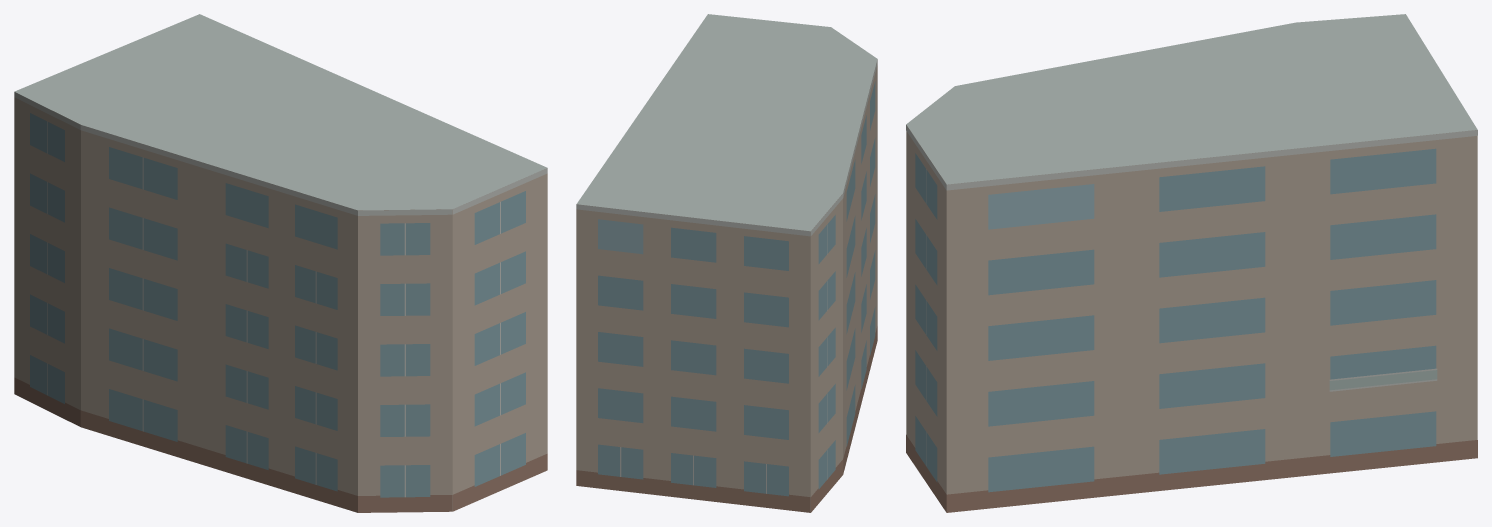
The model's file is survey-upis-32687206.glb.
3 views of the same model, side by side, from view 1: azimuth 30°, elevation 25°; view 2: azimuth 150°, elevation 25°; view 3: azimuth 270°, elevation 25° (orthographic). The views are drawn at different scales.
Visible parts, largest first — view 1: survey-upis-32687206.tmp; view 2: survey-upis-32687206.tmp; view 3: survey-upis-32687206.tmp.
Part boxes in pixels (x1=…): survey-upis-32687206.tmp: x1=14, y1=14, x2=547, y2=512; survey-upis-32687206.tmp: x1=576, y1=14, x2=877, y2=512; survey-upis-32687206.tmp: x1=906, y1=14, x2=1477, y2=512.
Size of the model in its own units: 14.94 by 13.4 by 21.16.
